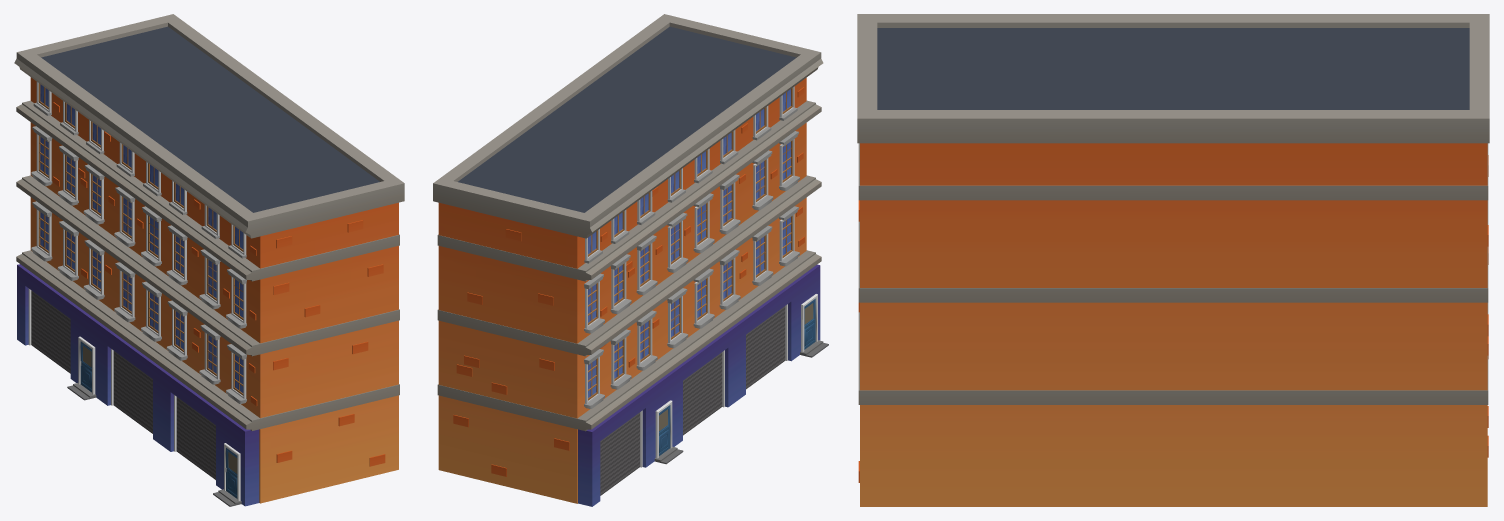
The model's file is Building_20_1_B.fbx.
The picture shows the model from 3 angles, left to right: view 1: azimuth 30°, elevation 25°; view 2: azimuth 150°, elevation 25°; view 3: azimuth 270°, elevation 25°; orthographic projection. The views are drawn at different scales.
Parts seen in each view (by area): view 1: Building_20_1_B; view 2: Building_20_1_B; view 3: Building_20_1_B.
Boxes of the visible parts, x1,y1,x2,y2 form: Building_20_1_B: (14,14,404,506); Building_20_1_B: (433,14,828,506); Building_20_1_B: (857,14,1489,506).
Bounding box in the file's own units: 774 × 1247 × 1827.
